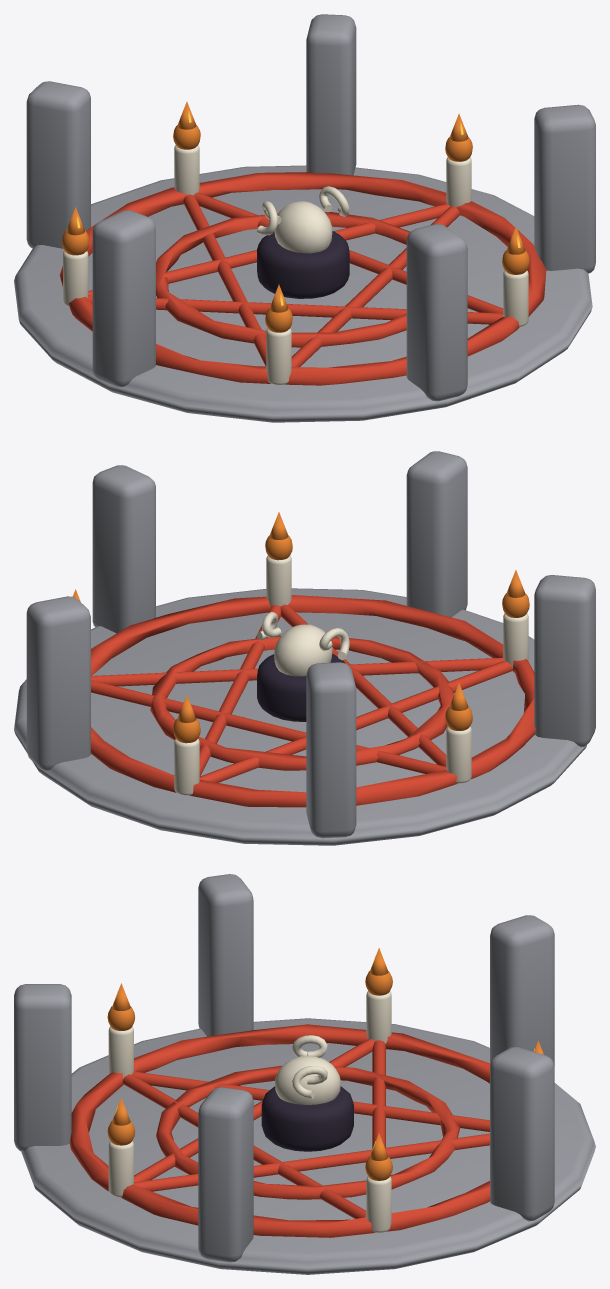
Rendered from SummoningCircle.fbx.
3 renders of one model, top to bottom at view 1: azimuth 30°, elevation 25°; view 2: azimuth 150°, elevation 25°; view 3: azimuth 270°, elevation 25°, orthographic.
Parts seen in each view (by area): view 1: SummoningCircle; view 2: SummoningCircle; view 3: SummoningCircle.
Part boxes in pixels (left/top/right/bottom): SummoningCircle: left=14, top=14, right=595, bottom=422; SummoningCircle: left=14, top=451, right=595, bottom=845; SummoningCircle: left=14, top=874, right=595, bottom=1274.
Size of the model in its own units: 1 by 0.32 by 1.01.
